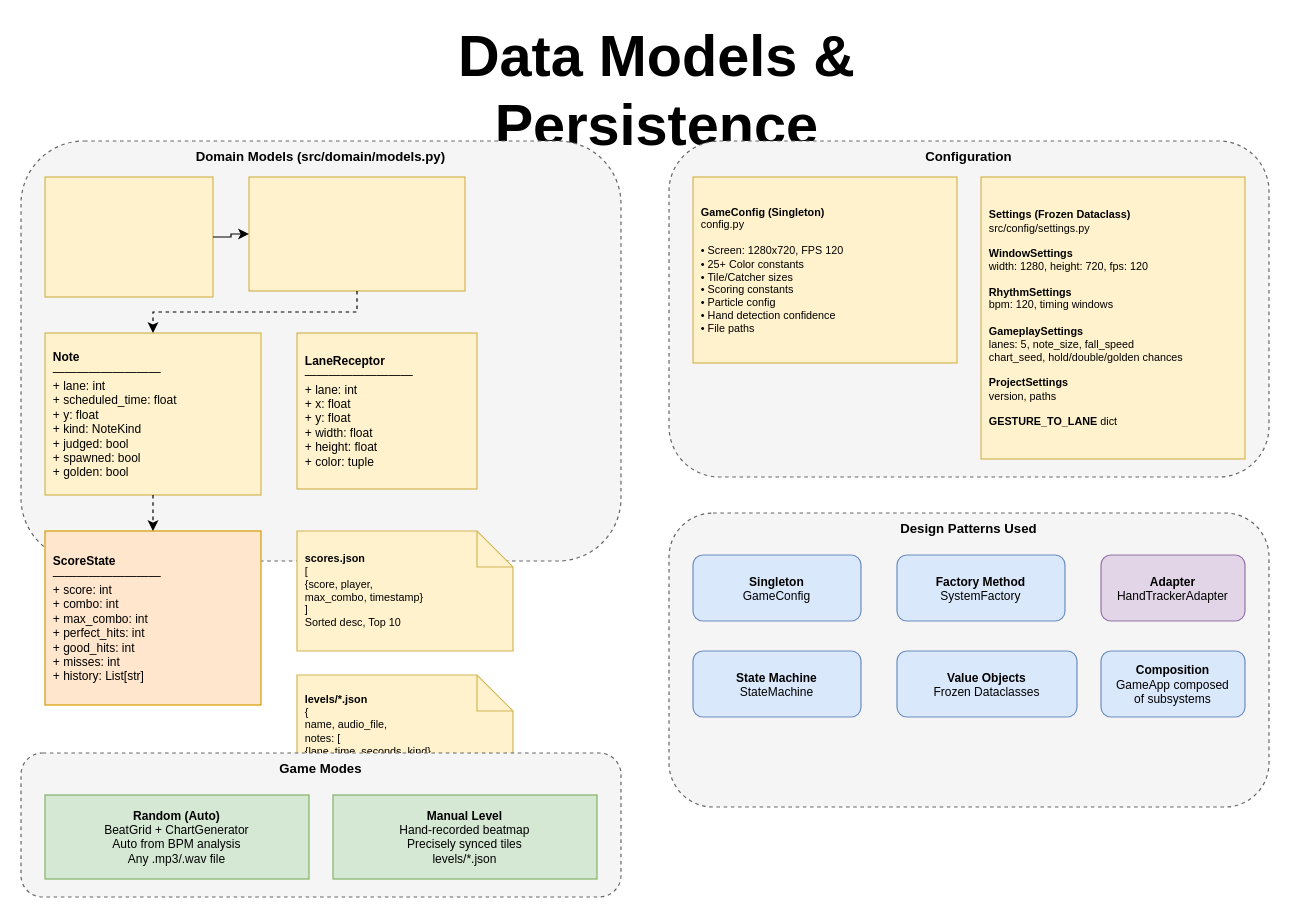
Image size: 1290x918. Some labels were removed from this diagram. The shapes that lost their labels are listed below. From the top down, each one's centre as x and y in pixels, then its label:
At [128,236]: "<<enum>> NoteKind ————————— TAP HOLD CHORD".
At [356,233]: "ChartEvent ————————— + lane: int + time_seconds: float + kind: NoteKind".
